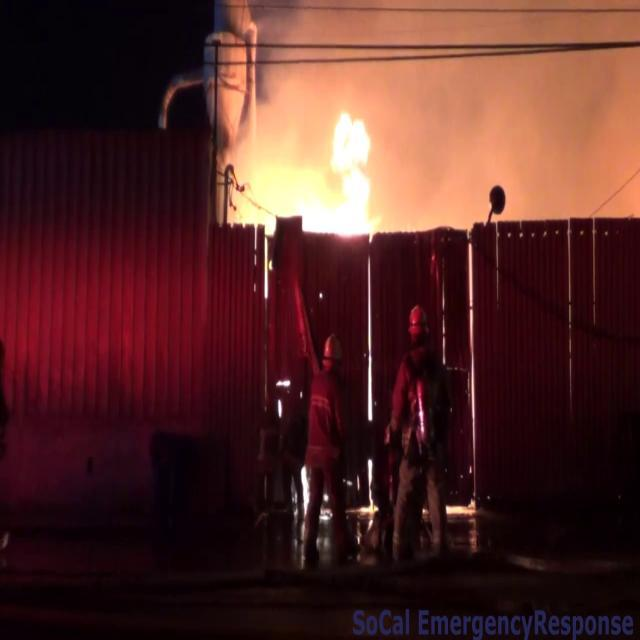Fire: (237, 95, 389, 244)
